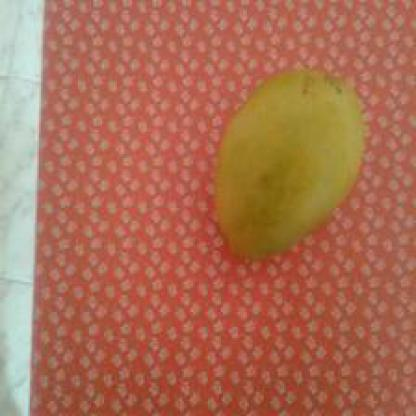mango: (210, 65, 366, 260)
